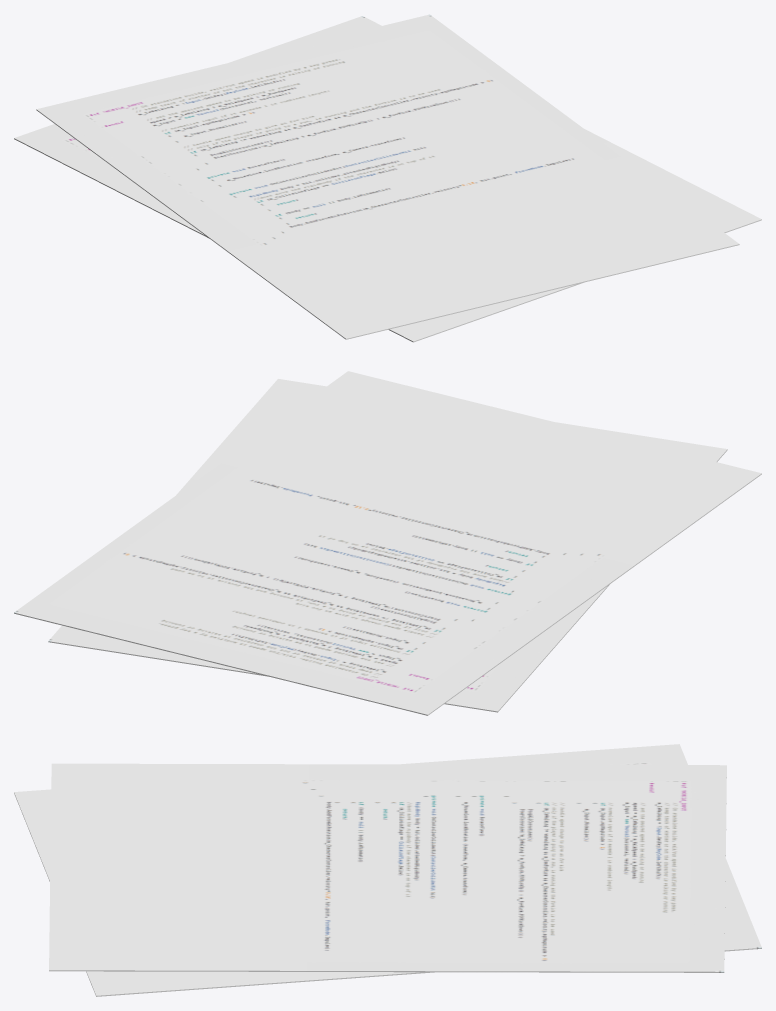
Rendered from Papers.FBX.
The picture shows the model from 3 angles, top to bottom: view 1: azimuth 30°, elevation 25°; view 2: azimuth 150°, elevation 25°; view 3: azimuth 270°, elevation 25°; orthographic projection. The views are drawn at different scales.
Visible parts, largest first — view 1: Papers; view 2: Papers; view 3: Papers.
Part boxes in pixels (bbox=[...]): Papers: bbox=[14, 14, 761, 342]; Papers: bbox=[14, 371, 761, 715]; Papers: bbox=[14, 744, 761, 996].
Size of the model in its own units: 25.58 by 0.1561 by 32.12.
1 material, 1 textured.
